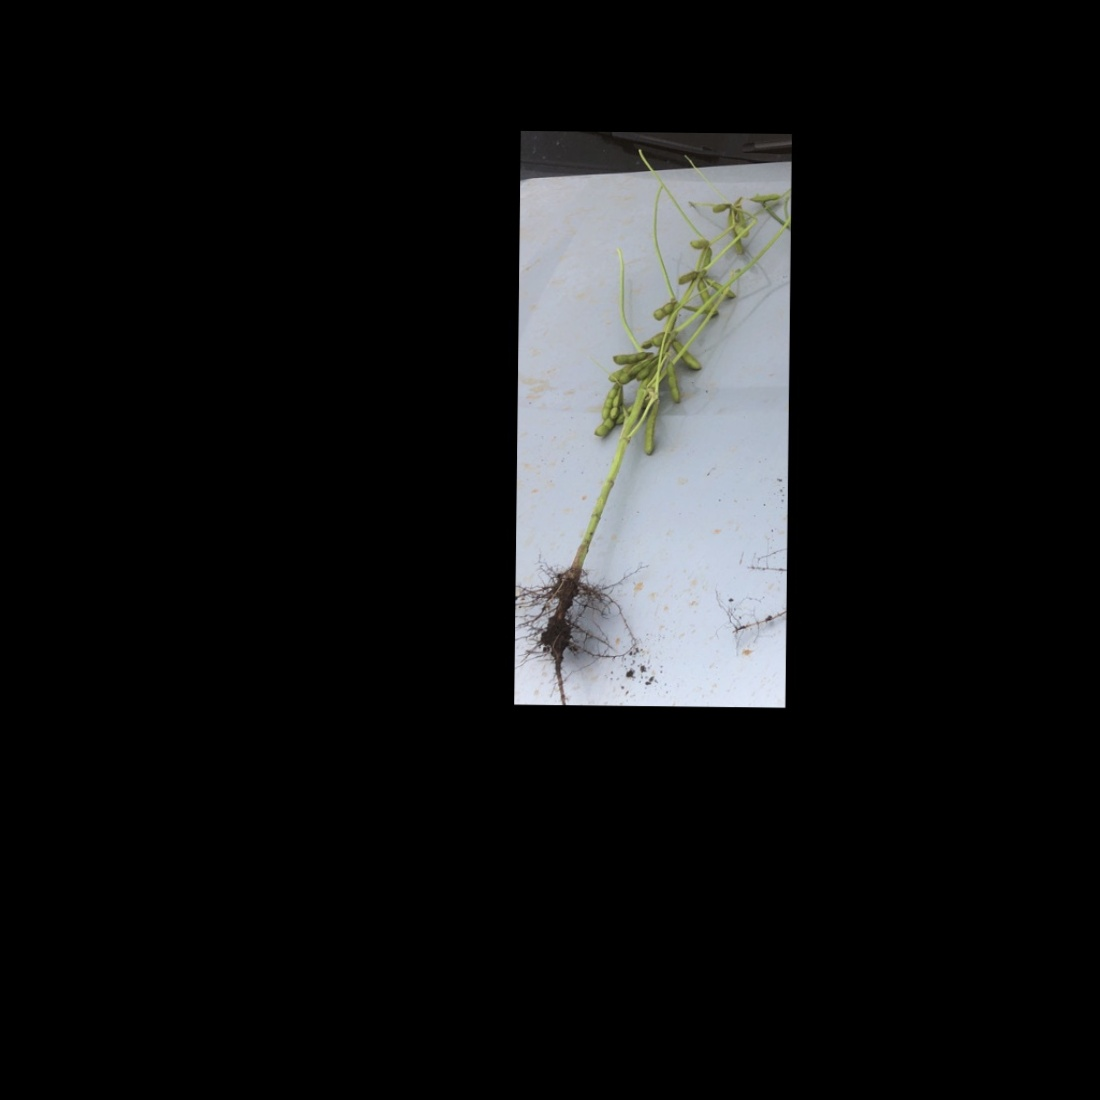pod: (669, 335, 706, 375), (660, 358, 683, 407), (644, 400, 662, 460), (702, 274, 738, 300), (611, 346, 654, 366), (647, 298, 677, 323), (746, 189, 786, 208), (675, 268, 702, 286), (685, 237, 711, 251)
soy: (527, 166, 786, 683)
